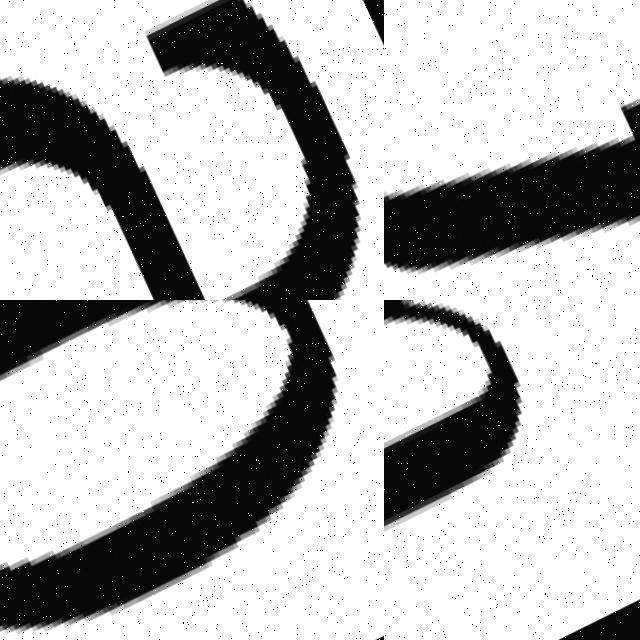0: (0, 300, 384, 640)
A: (0, 0, 384, 300)
H: (384, 300, 520, 527)
J: (384, 0, 640, 300)
